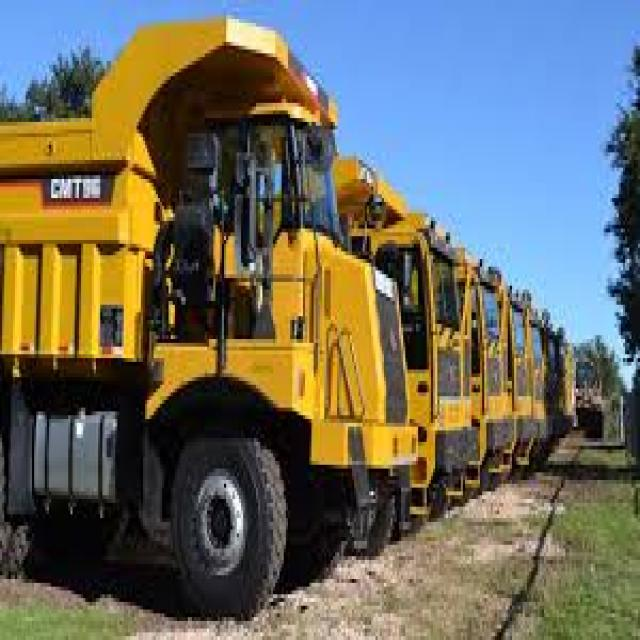dump_truck: (2, 19, 414, 613)
